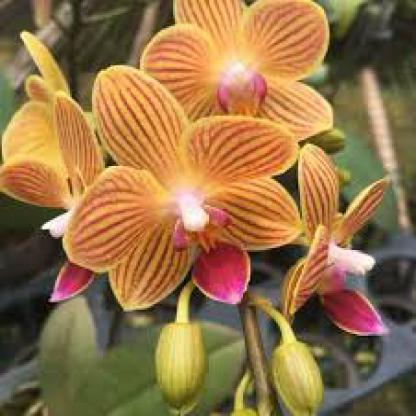ANGGREK: (21, 18, 386, 344)
